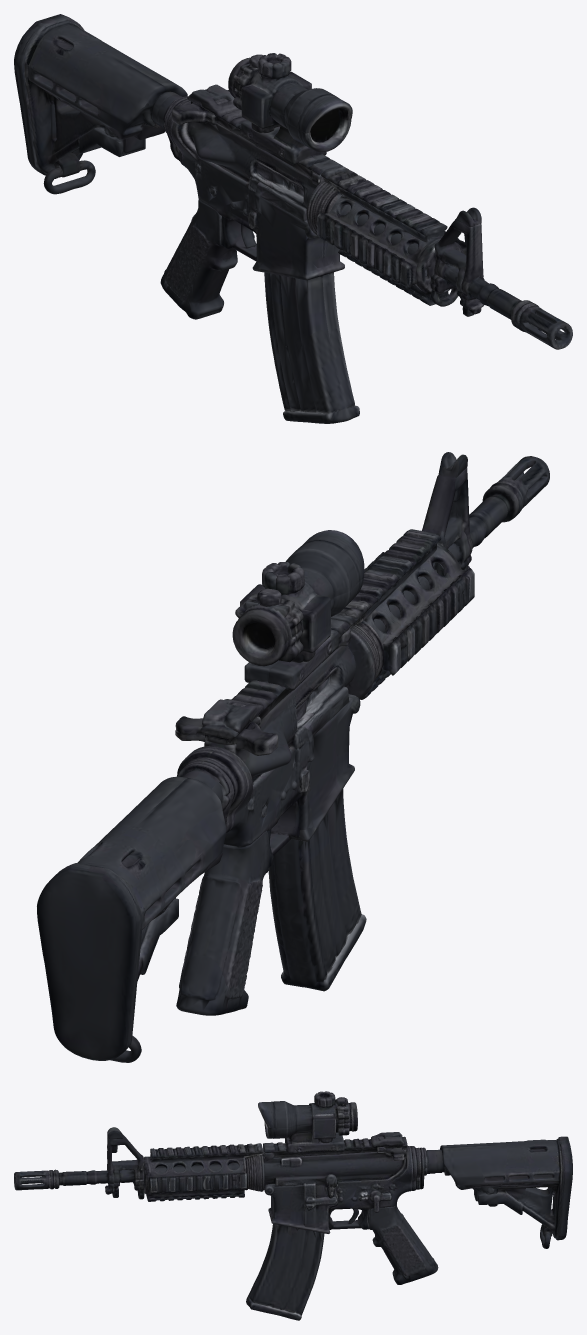
Rendered from ar_gun.glb.
3 views of the same model, one above another, from view 1: azimuth 30°, elevation 25°; view 2: azimuth 150°, elevation 25°; view 3: azimuth 270°, elevation 25° (orthographic). The views are drawn at different scales.
Visible parts, largest first — view 1: tripo_node_1eb168ea-0388-429d-8ecb-d663bd7fea3d; view 2: tripo_node_1eb168ea-0388-429d-8ecb-d663bd7fea3d; view 3: tripo_node_1eb168ea-0388-429d-8ecb-d663bd7fea3d.
Part boxes in pixels (x1,y1,x2,y2): tripo_node_1eb168ea-0388-429d-8ecb-d663bd7fea3d: [14, 14, 572, 423]; tripo_node_1eb168ea-0388-429d-8ecb-d663bd7fea3d: [37, 452, 549, 1062]; tripo_node_1eb168ea-0388-429d-8ecb-d663bd7fea3d: [14, 1091, 572, 1320].
Bounding box in the file's own units: 0.3475 × 0.8496 × 1.96.
Materials: 1 (1 with a texture image).
